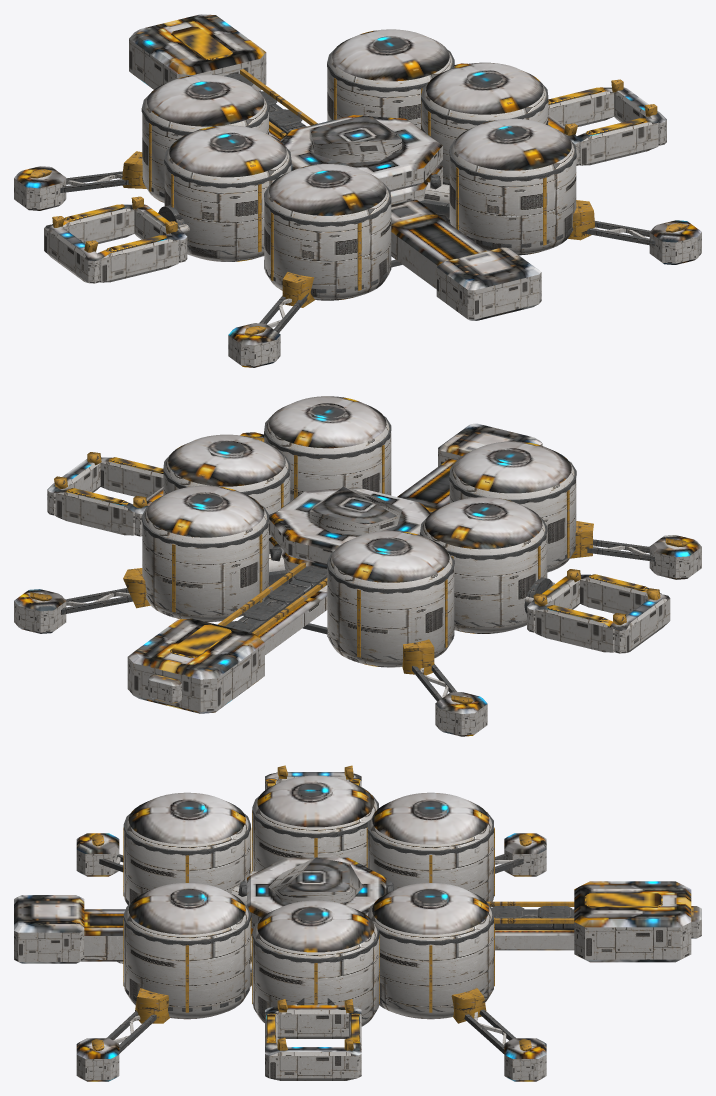
The model's file is mining-belt-station-lod2.glb.
The picture shows the model from 3 angles, top to bottom: view 1: azimuth 30°, elevation 25°; view 2: azimuth 150°, elevation 25°; view 3: azimuth 270°, elevation 25°; orthographic projection.
Parts seen in each view (by area): view 1: Static / Reference titanium and industrial fittings, Static / Ventral reference plating; view 2: Static / Reference titanium and industrial fittings, Static / Ventral reference plating; view 3: Static / Reference titanium and industrial fittings, Static / Ventral reference plating.
Part boxes in pixels (<box>): Static / Reference titanium and industrial fittings: <box>14,14,701,366</box>; Static / Ventral reference plating: <box>27,73,696,367</box>; Static / Reference titanium and industrial fittings: <box>14,396,701,735</box>; Static / Ventral reference plating: <box>19,534,688,736</box>; Static / Reference titanium and industrial fittings: <box>14,765,701,1080</box>; Static / Ventral reference plating: <box>19,871,697,1081</box>.
Bounding box in the file's own units: 15.67 × 3.08 × 16.17.
2 materials, 2 textured.
